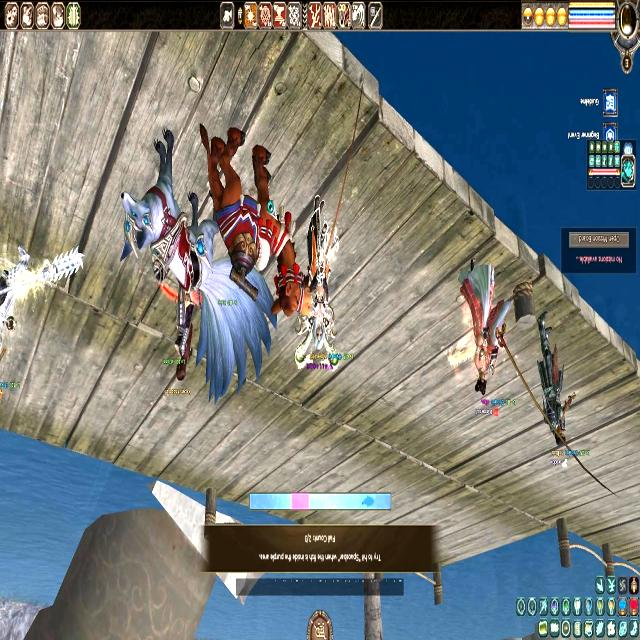fishes: (362, 495, 374, 509)
